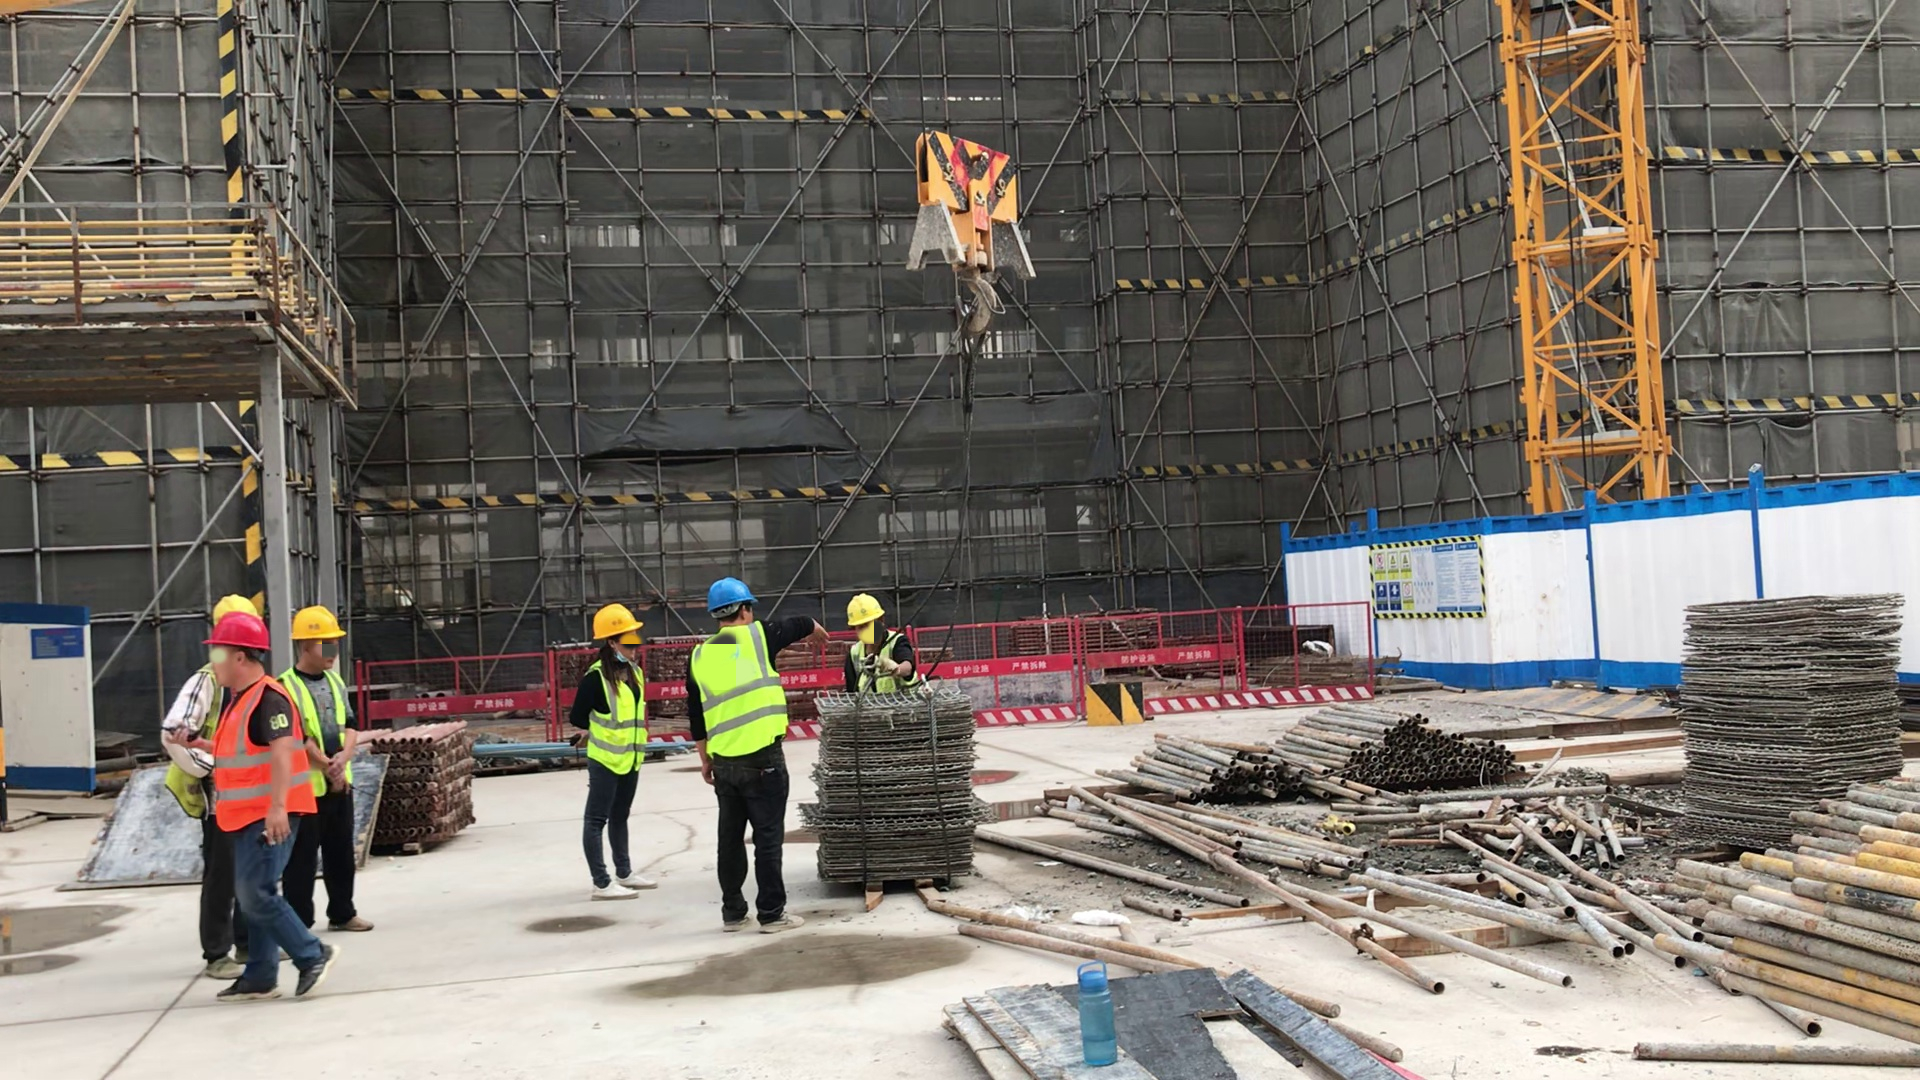fence: (1258, 590, 1369, 709), (980, 612, 1087, 727), (1160, 595, 1251, 720), (488, 649, 562, 742)
helmet: (207, 615, 273, 659), (591, 605, 645, 641), (292, 610, 348, 644), (706, 579, 756, 616), (846, 593, 886, 628)
hook: (914, 127, 1040, 343)
person: (199, 611, 341, 999), (687, 577, 820, 936), (573, 602, 662, 910), (301, 606, 377, 937), (839, 593, 919, 689)
scaffold: (1651, 782, 1920, 1050), (1277, 699, 1526, 787), (1094, 732, 1315, 801), (377, 719, 481, 863)
slogan: (1373, 543, 1485, 618)
vest: (214, 678, 319, 833), (692, 622, 790, 758), (287, 669, 358, 798), (591, 657, 650, 783), (849, 632, 908, 693)
